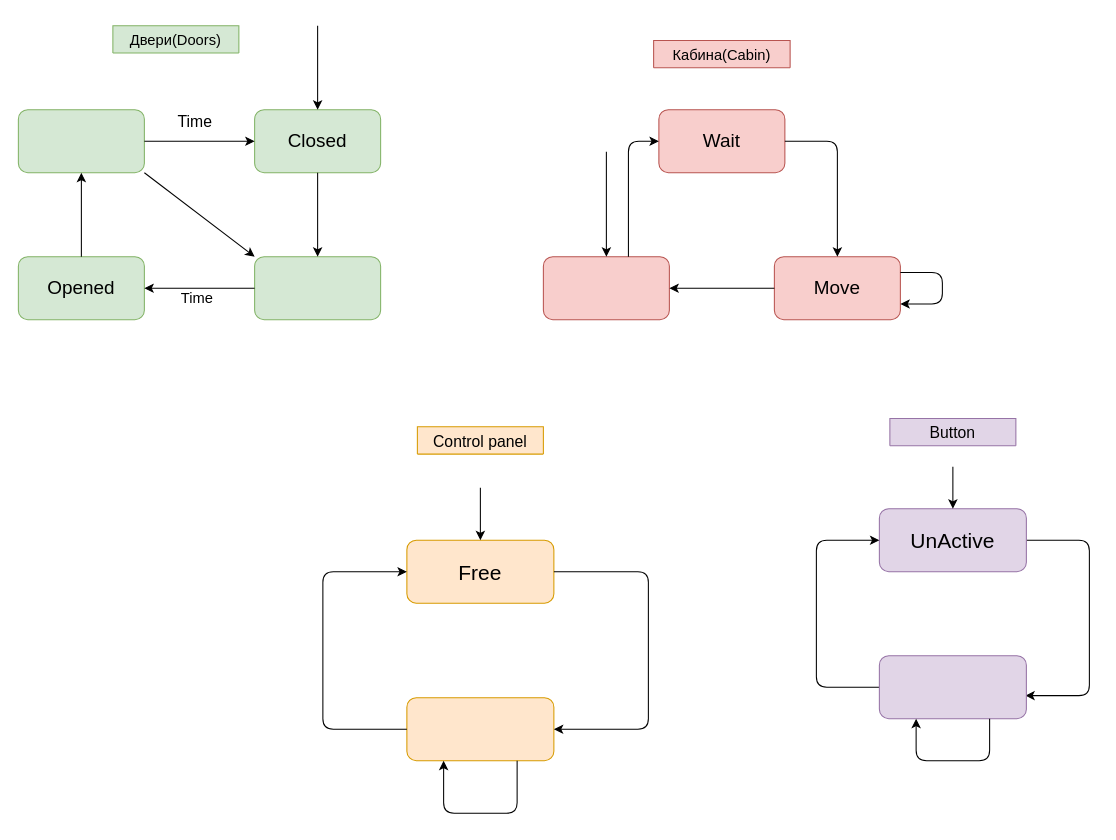
Image size: 1116x840. Some labels were removed from this diagram. The shapes that lost their labels are listed below. From the top down, each one's box as (x1, y1, x2, y2) in pixels, then its label:
(17, 109, 144, 173): Closing
(254, 256, 381, 320): Openning
(542, 256, 669, 320): Stop
(878, 655, 1026, 719): Active
(406, 697, 554, 761): Busy
